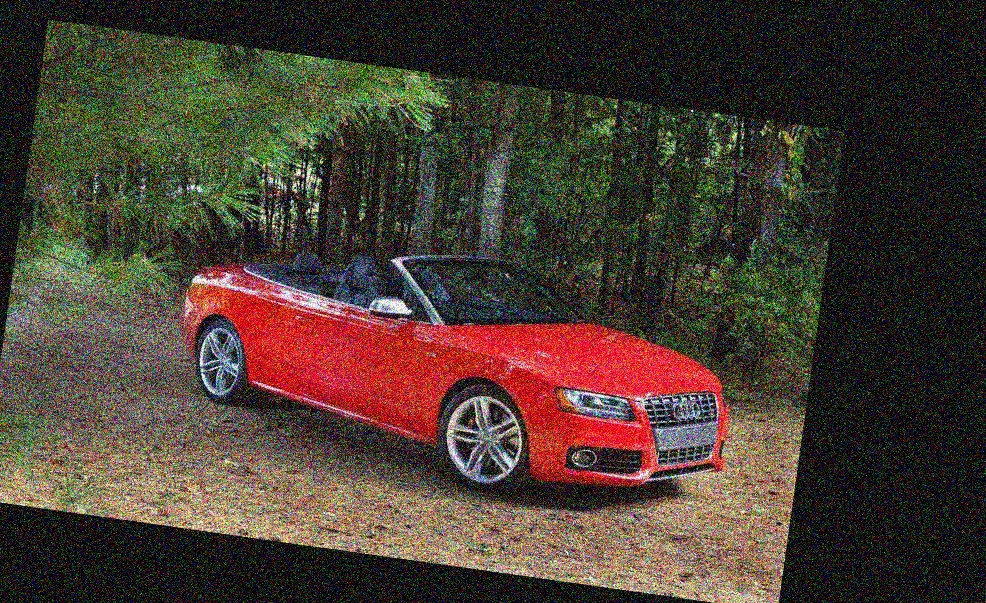car: (152, 176, 787, 563)
